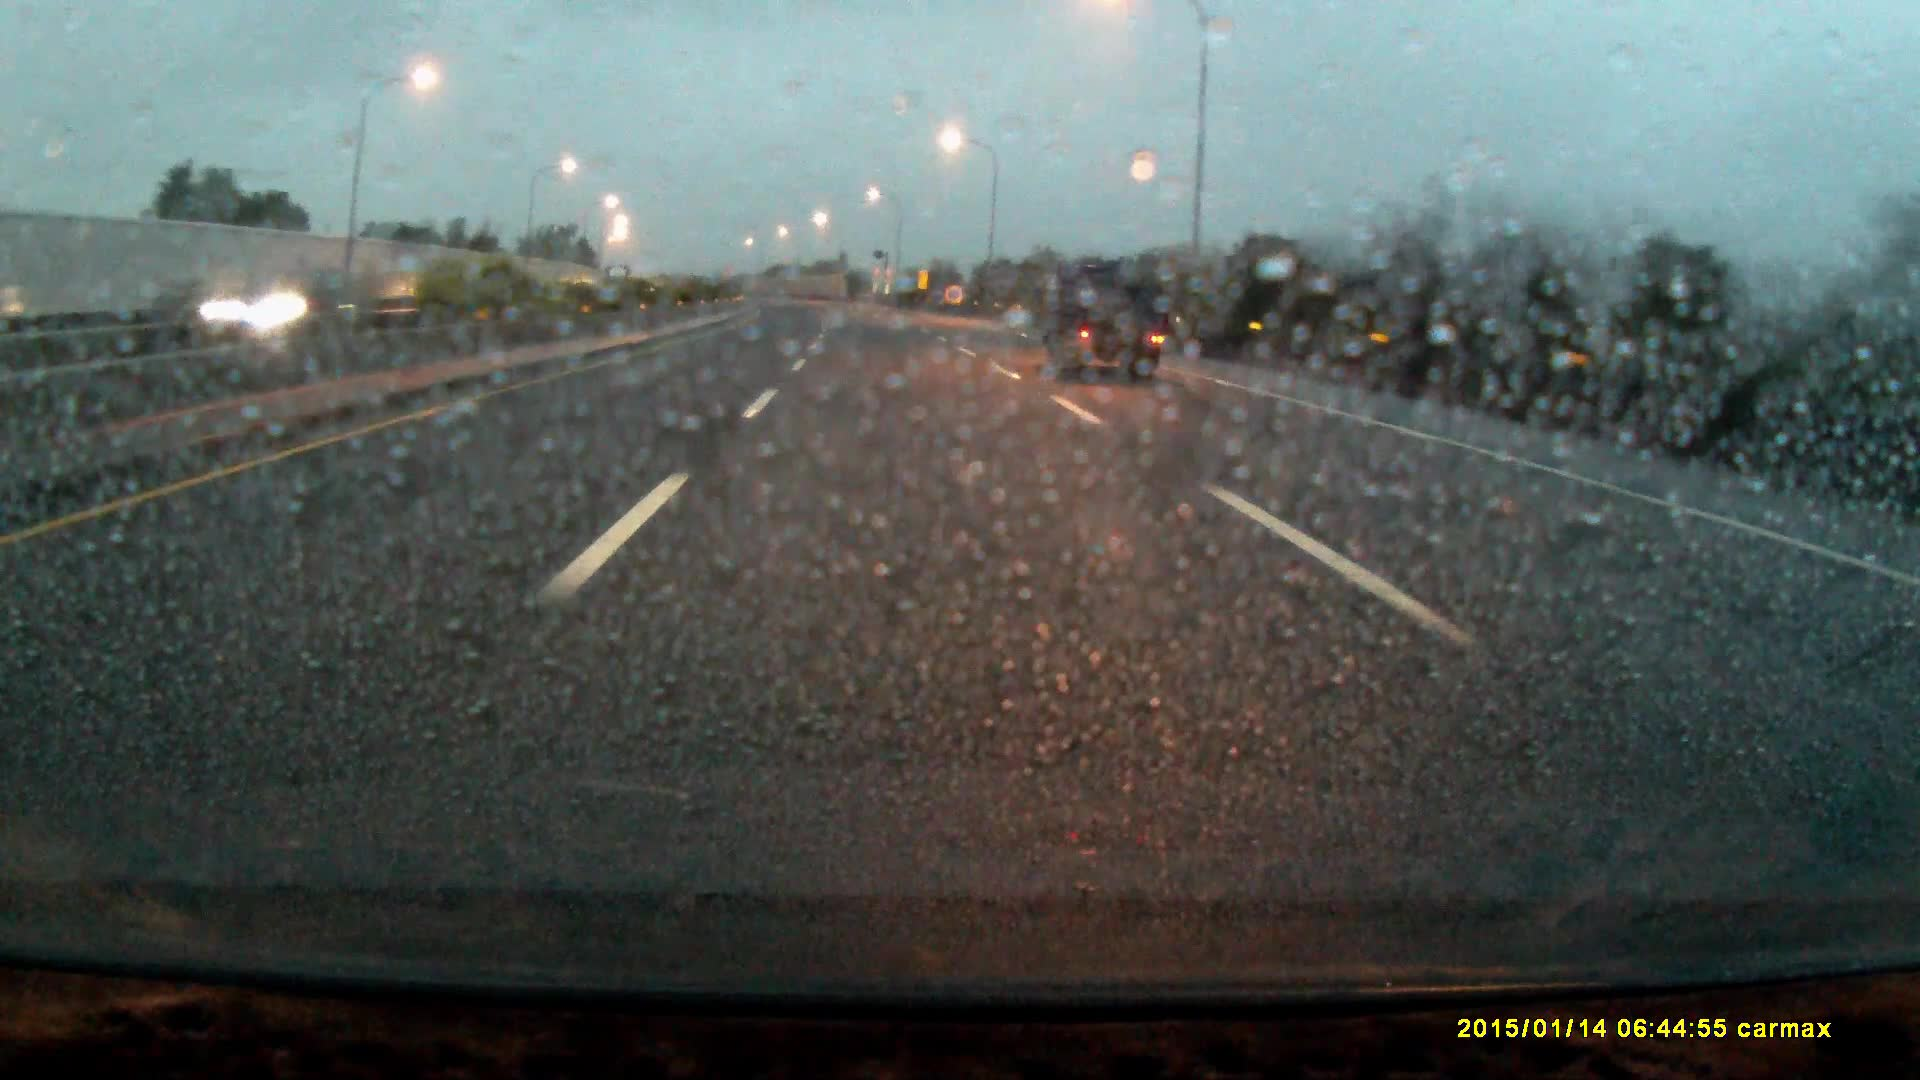vehicle: (1046, 266, 1164, 382), (191, 272, 339, 339), (607, 268, 632, 295)
